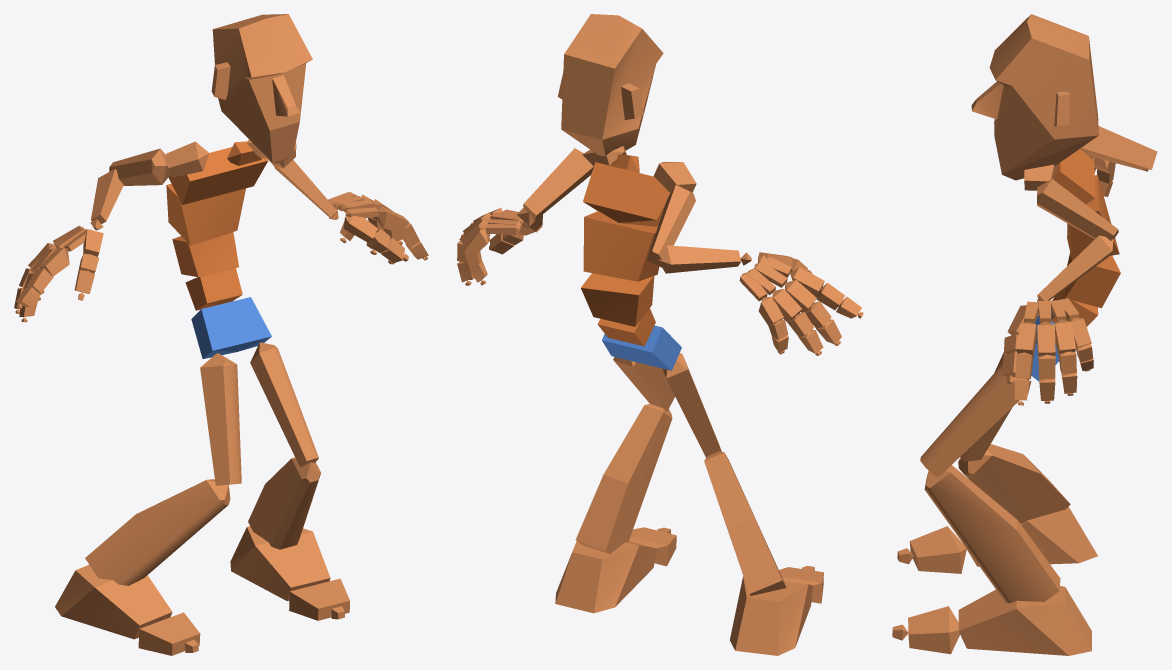
Rendered from personaje315.obj.
The picture shows the model from 3 angles, left to right: view 1: azimuth 30°, elevation 25°; view 2: azimuth 150°, elevation 25°; view 3: azimuth 270°, elevation 25°; orthographic projection. The views are drawn at different scales.
Parts seen in each view (by area): view 1: BOPED_Head, BOPED_R_leg, BOPED_R_foot, BOPED_R_foot01, BOPED_L_leg, BOPED_R_legup, BOPED_L_legup, Bone01, Bone04, Bone05, Bone03, BOPED_R_foot_toe04 (+7 smaller); view 2: BOPED_Head, BOPED_L_leg, BOPED_R_foot01, BOPED_R_foot, BOPED_R_leg, Bone04, Bone05, Bone03, BOPED_R_legup, BOPED_L_arm_upper, Bone01, BOPED_R_arm_fore (+6 smaller); view 3: BOPED_Head, BOPED_L_leg, BOPED_R_foot01, BOPED_R_leg, BOPED_L_legup, BOPED_R_foot, BOPED_L_arm_upper, BOPED_R_foot_toe01, BOPED_R_foot_toe04, BOPED_R_arm_upper, Bone03, BOPED_L_arm_fore (+11 smaller).
Part boxes in pixels (left/top/right/bottom): BOPED_Head: left=211, top=14, right=312, bottom=163; BOPED_R_leg: left=85, top=479, right=230, bottom=585; BOPED_R_foot: left=55, top=565, right=172, bottom=639; BOPED_R_foot01: left=230, top=526, right=330, bottom=600; BOPED_L_leg: left=248, top=457, right=320, bottom=549; BOPED_R_legup: left=200, top=353, right=241, bottom=485; BOPED_L_legup: left=250, top=342, right=318, bottom=467; Bone01: left=191, top=297, right=271, bottom=358; Bone04: left=166, top=183, right=245, bottom=245; Bone05: left=168, top=147, right=268, bottom=204; Bone03: left=172, top=232, right=238, bottom=277; BOPED_R_foot_toe04: left=289, top=578, right=349, bottom=620; BOPED_Head: left=558, top=14, right=663, bottom=156; BOPED_L_leg: left=575, top=404, right=672, bottom=553; BOPED_R_foot01: left=555, top=541, right=657, bottom=613; BOPED_R_foot: left=730, top=576, right=812, bottom=655; BOPED_R_leg: left=704, top=451, right=786, bottom=595; Bone04: left=583, top=211, right=659, bottom=281; Bone05: left=583, top=162, right=670, bottom=226; Bone03: left=581, top=273, right=654, bottom=326; BOPED_R_legup: left=663, top=353, right=721, bottom=457; BOPED_L_arm_upper: left=523, top=148, right=593, bottom=220; Bone01: left=602, top=325, right=681, bottom=370; BOPED_R_arm_fore: left=657, top=245, right=741, bottom=273; BOPED_Head: left=971, top=14, right=1098, bottom=180; BOPED_L_leg: left=924, top=465, right=1060, bottom=602; BOPED_R_foot01: left=958, top=586, right=1091, bottom=655; BOPED_R_leg: left=958, top=444, right=1070, bottom=523; BOPED_L_legup: left=920, top=364, right=1027, bottom=477; BOPED_R_foot: left=967, top=506, right=1097, bottom=566; BOPED_L_arm_upper: left=1037, top=179, right=1118, bottom=240; BOPED_R_foot_toe01: left=909, top=526, right=966, bottom=573; BOPED_R_foot_toe04: left=908, top=606, right=960, bottom=654; BOPED_R_arm_upper: left=1080, top=126, right=1157, bottom=169; Bone03: left=1065, top=252, right=1120, bottom=308; BOPED_L_arm_fore: left=1037, top=235, right=1113, bottom=300.
Bounding box in the file's own units: 125 × 167 × 65.52.
